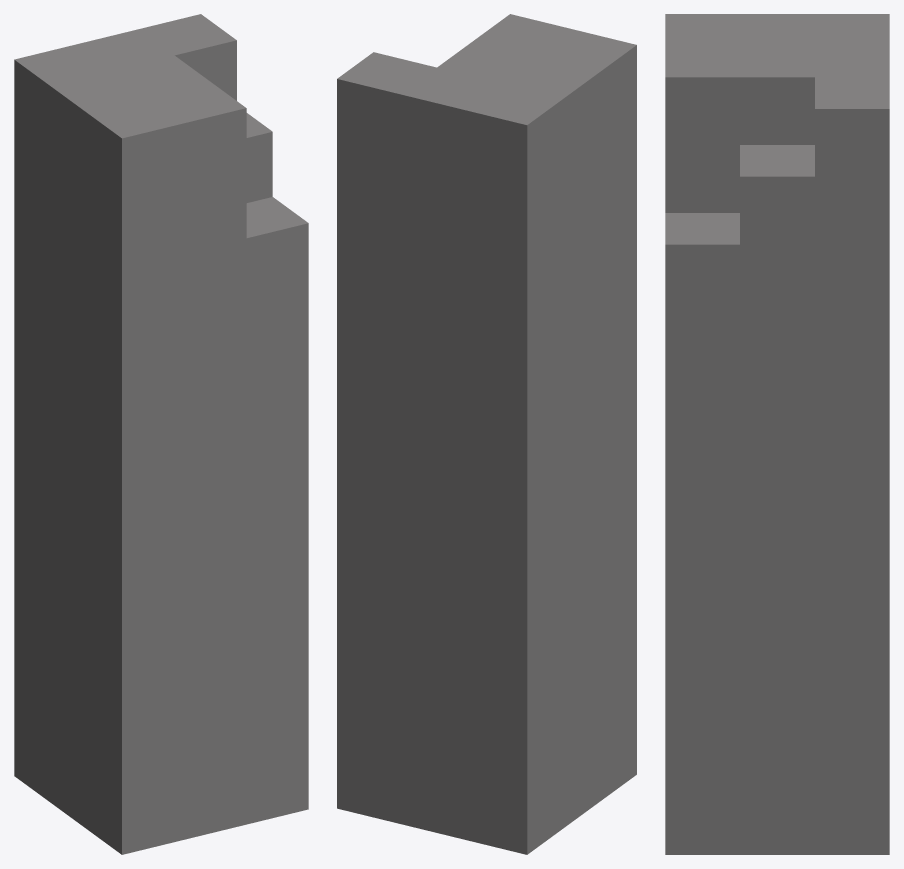
File: wolf__leg_br.glb
The picture shows the model from 3 angles, left to right: view 1: azimuth 30°, elevation 25°; view 2: azimuth 150°, elevation 25°; view 3: azimuth 270°, elevation 25°; orthographic projection. The views are drawn at different scales.
Parts seen in each view (by area): view 1: wolf__leg_br; view 2: wolf__leg_br; view 3: wolf__leg_br.
Boxes of the visible parts, x1,y1,x2,y2 form: wolf__leg_br: (14,14,308,854); wolf__leg_br: (337,14,636,854); wolf__leg_br: (665,14,889,854).
Size of the model in its own units: 0.3 by 1.1 by 0.3.
1 material, 1 textured.
